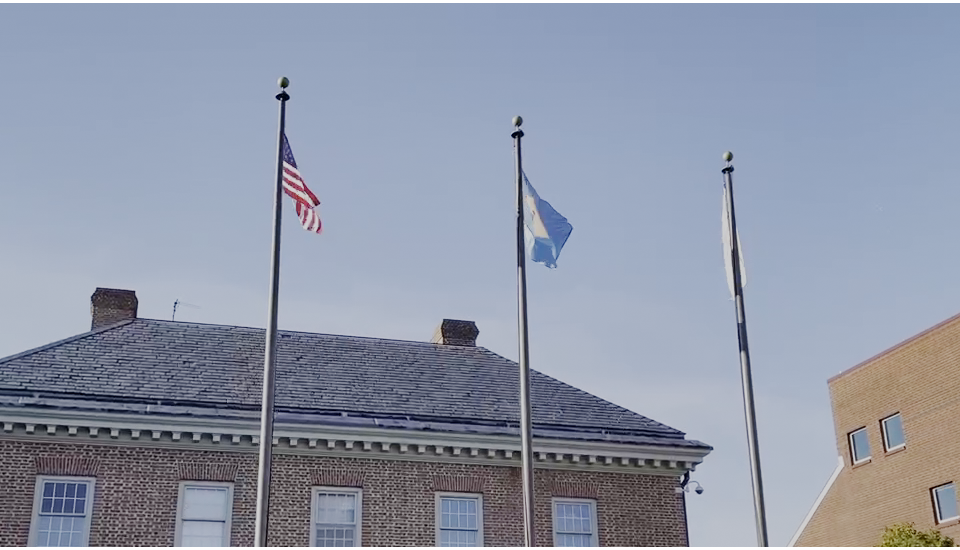America flag: (280, 126, 327, 237)
Delaware flag: (524, 162, 574, 271)
